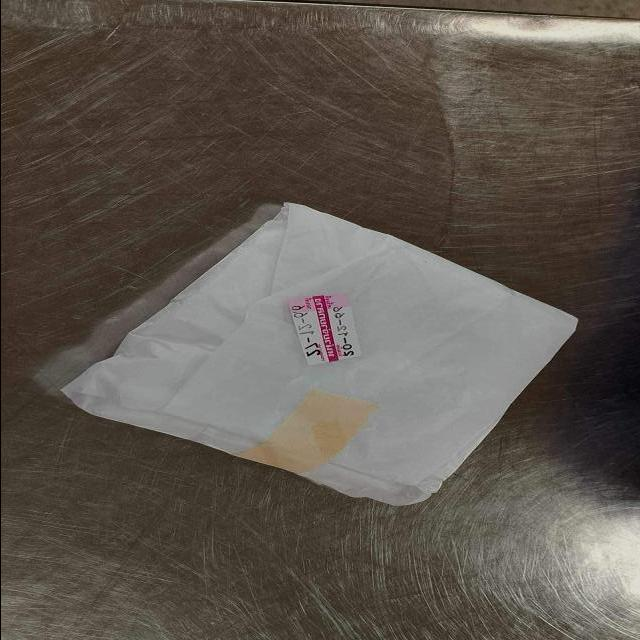General: (59, 200, 580, 510), (286, 292, 361, 368)
